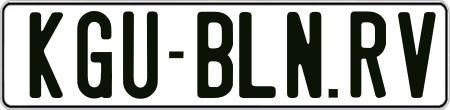B: (196, 11, 236, 100)
G: (77, 10, 114, 100)
K: (28, 9, 63, 99)
L: (239, 10, 280, 96)
N: (284, 11, 320, 103)
R: (351, 11, 387, 103)
U: (123, 11, 164, 100)
V: (395, 10, 431, 97)
